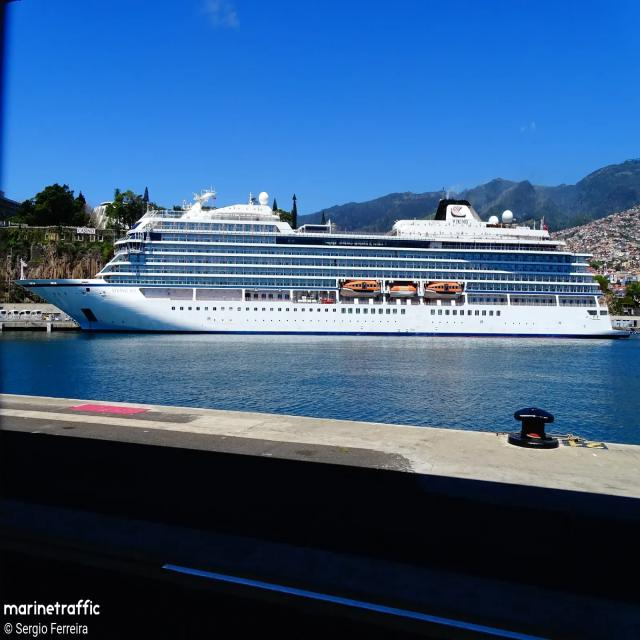Cruise: (19, 194, 625, 338)
